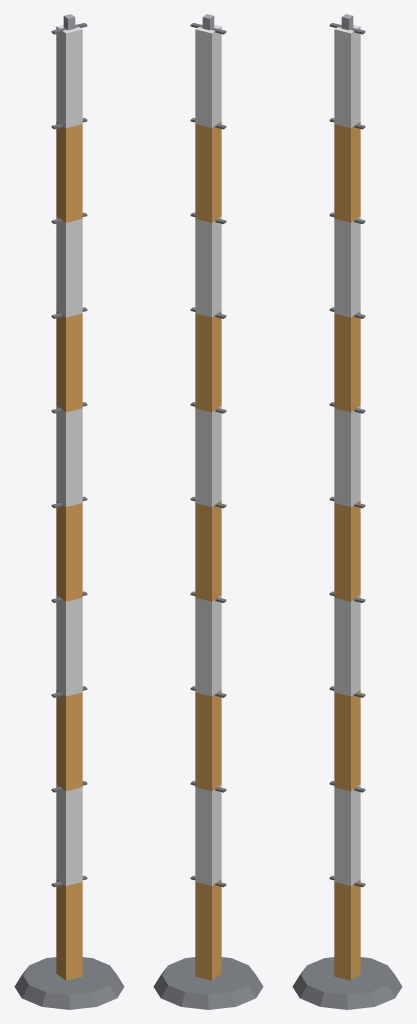
The model's file is modular-greybox-architecture-kit-measurement-rod-5m-efb961ef__22914.glb.
3 renders of one model, left to right at view 1: azimuth 30°, elevation 25°; view 2: azimuth 150°, elevation 25°; view 3: azimuth 330°, elevation 25°, orthographic.
Parts seen in each view (by area): view 1: measurement-rod-5m; view 2: measurement-rod-5m; view 3: measurement-rod-5m.
Boxes of the visible parts, x1,y1,x2,y2 form: measurement-rod-5m: (14, 14, 124, 1009); measurement-rod-5m: (153, 14, 263, 1009); measurement-rod-5m: (292, 14, 402, 1009).
Size of the model in its own units: 0.5202 by 5.06 by 0.5202.
